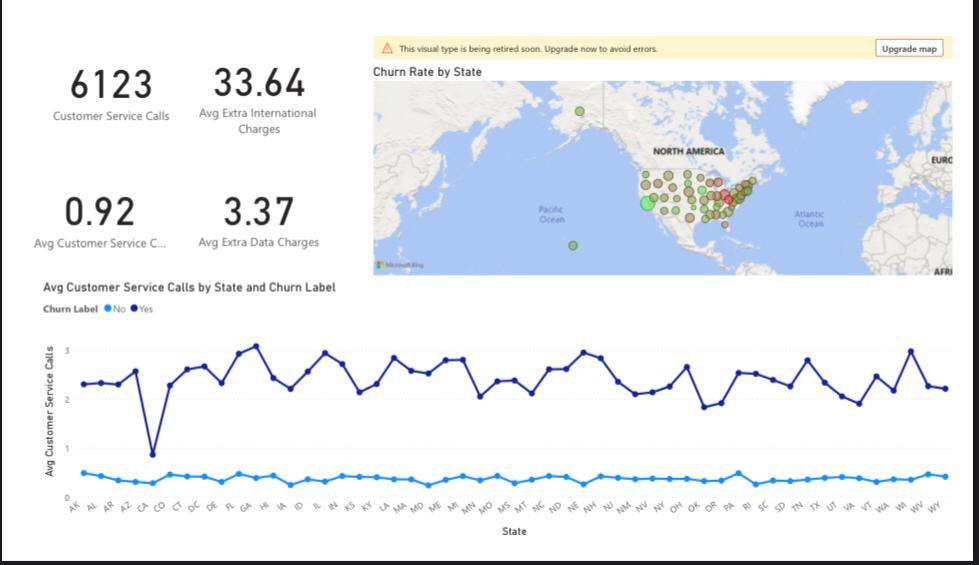

The page's visual inventory and layout, read from the dashboard file:
{"tool":"powerbi","page":{"name":"Insights","canvas":[1280,720],"ordinal":9},"visuals":[{"type":"card","fields":{"Values":["Sum(Databel - Data.Customer Service Calls)"]},"box":[27.6,6.1,194.4,182.2],"z":0},{"type":"card","fields":{"Values":["Databel - Data.Avg Customer Service Calls"]},"box":[12.2,186.8,194.4,168.4],"z":1000},{"type":"card","fields":{"Values":["Databel - Data.Avg Extra International Charges"]},"box":[222,0,211.3,186.8],"z":2000},{"type":"card","fields":{"Values":["Databel - Data.Avg Extra Data Charges"]},"box":[209.8,165.4,234.3,209.8],"z":3000},{"type":"lineChart","fields":{"Category":["Databel - Data.State"],"Y":["Databel - Data.Avg Customer Service Calls"],"Series":["Databel - Data.Churn Label"]},"box":[27.2,359.9,1252.8,355],"z":4000},{"type":"map","fields":{"Category":["Databel - Data.State"],"Size":["Databel - Data.Churn Rate"]},"box":[477.7,27.6,802.3,332.2],"z":5000}]}

Visuals, with their boxes in screenshot pixels (x1, y1, x2, y2), scaled from the page's 1280x720 canvas onto the 979x565 screenshot:
card - Sum(Databel - Data.Customer Service Calls): pyautogui.locateOnScreen(21, 5, 170, 148)
card - Databel - Data.Avg Customer Service Calls: pyautogui.locateOnScreen(9, 147, 158, 279)
card - Databel - Data.Avg Extra International Charges: pyautogui.locateOnScreen(170, 0, 331, 147)
card - Databel - Data.Avg Extra Data Charges: pyautogui.locateOnScreen(160, 130, 340, 294)
lineChart - Databel - Data.State x Databel - Data.Avg Customer Service Calls: pyautogui.locateOnScreen(21, 282, 978, 561)
map - Databel - Data.State x Databel - Data.Churn Rate: pyautogui.locateOnScreen(365, 22, 978, 282)
